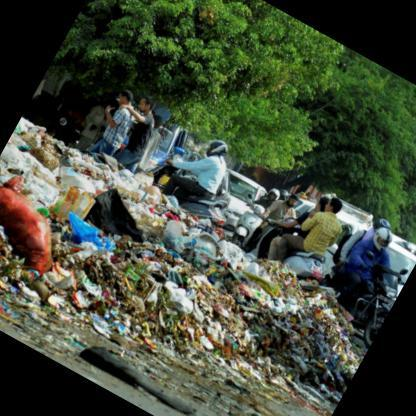Garbage: (75, 191, 281, 384), (0, 118, 162, 325), (206, 269, 358, 415), (0, 165, 108, 352)
